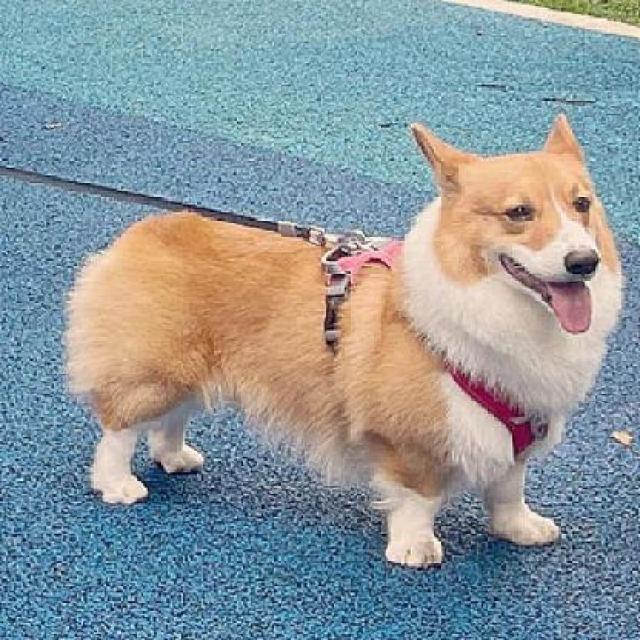Dog: (58, 108, 631, 574)
